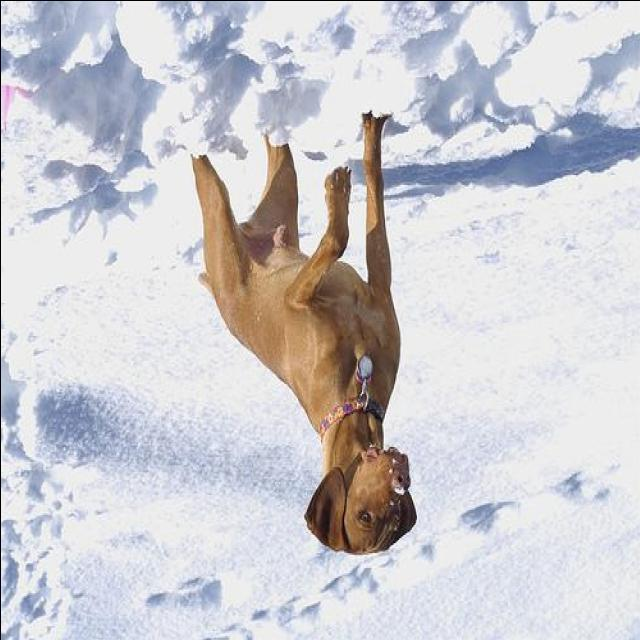vizsla: (178, 98, 420, 559)
